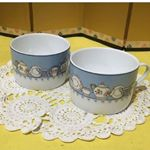cups: (69, 45, 150, 117), (8, 31, 73, 92)
